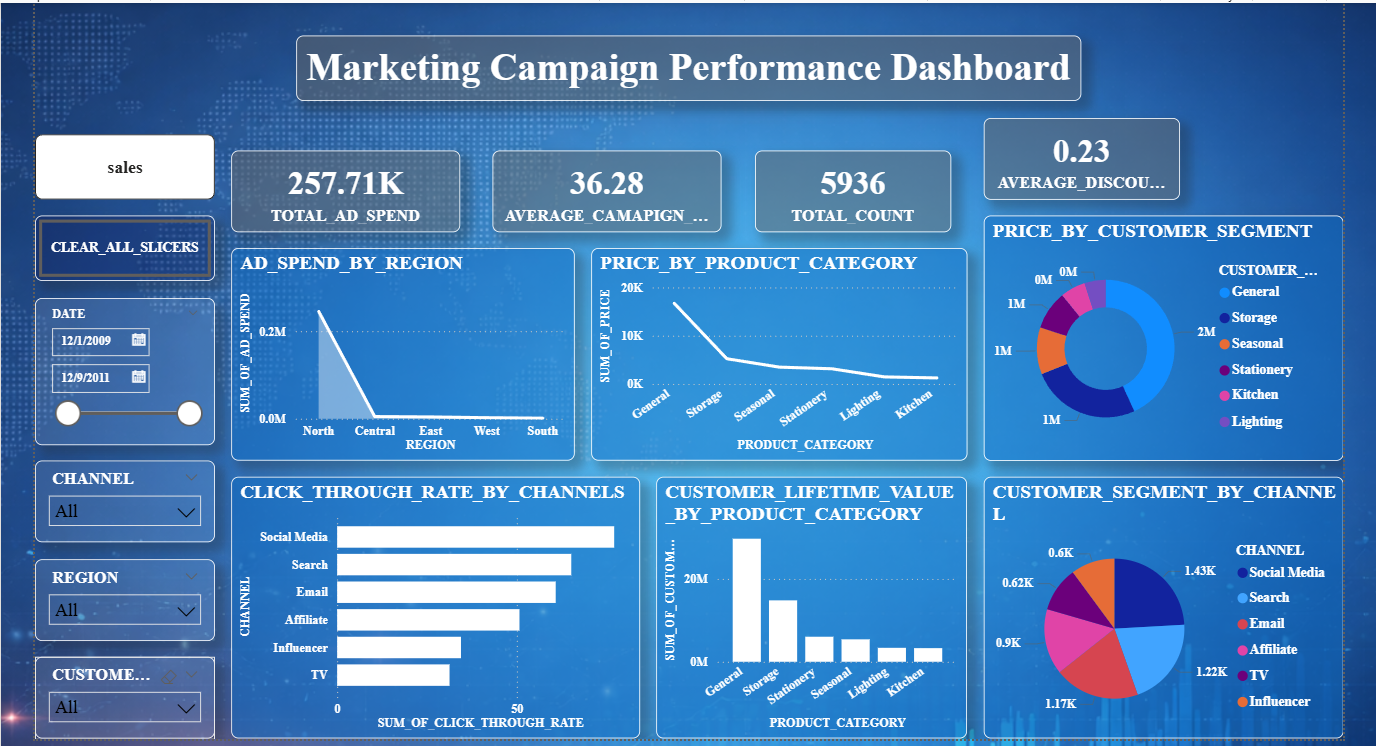

The page's visual inventory and layout, read from the dashboard file:
{"tool":"powerbi","page":{"name":"marketing","canvas":[1280,720],"ordinal":0},"visuals":[{"type":"card","fields":{"Values":["test.average discount rate"]},"box":[928,112,192,80],"z":0},{"type":"card","fields":{"Values":["test.total count"]},"box":[704,144,192,80],"z":1000},{"type":"card","fields":{"Values":["test.total ad_spend"]},"box":[192,144,224,80],"z":2000},{"type":"card","fields":{"Values":["test.average campaign duration"]},"box":[448,144,224,80],"z":3000},{"type":"barChart","title":"CLICK_THROUGH_RATE_BY_CHANNELS","fields":{"Category":["test.channel"],"Y":["Sum(test.click_through_rate)"]},"box":[192,464,400,256],"z":4000},{"type":"areaChart","title":"AD_SPEND_BY_REGION","fields":{"Category":["test.region"],"Y":["Sum(test.ad_spend)"]},"box":[192,240,336,208],"z":5000},{"type":"pieChart","title":"CUSTOMER_SEGMENT_BY_CHANNEL","fields":{"Category":["test.channel"],"Y":["CountNonNull(test.customer_segment)"]},"box":[928,464,352,256],"z":6000},{"type":"columnChart","title":"CUSTOMER_LIFETIME_VALUE_BY_PRODUCT_CATEGORY","fields":{"Category":["test.product_category"],"Y":["Sum(test.customer_lifetime_value)"]},"box":[608,464,304,256],"z":7000},{"type":"lineChart","title":"PRICE_BY_PRODUCT_CATEGORY","fields":{"Category":["test.product_category"],"Y":["Sum(test.price)"]},"box":[544,240,368,208],"z":8000},{"type":"textbox","box":[256,32,768,64],"z":9000},{"type":"slicer","fields":{"Values":["test.region"]},"box":[0,544,176,80],"z":10000},{"type":"slicer","fields":{"Values":["test.channel"]},"box":[0,448,176,80],"z":11000},{"type":"donutChart","title":"PRICE_BY_CUSTOMER_SEGMENT","fields":{"Category":["train.product_category"],"Y":["Sum(train.impressions)"]},"box":[928,208,352,240],"z":12000},{"type":"slicer","fields":{"Values":["test.customer_segment"]},"box":[0,640,176,80],"z":13000},{"type":"actionButton","box":[0,208,176,64],"z":14000},{"type":"pageNavigator","box":[0,128,176,64],"z":15000},{"type":"slicer","fields":{"Values":["train.date"]},"box":[0,288,176,144],"z":16000}]}

Visuals, with their boxes on the page's 1280x720 design canvas (x1, y1, x2, y2). These are canvas units, not pixel positions in the 1376x746 screenshot, which may show the page scaled, cropped or inside an application window:
card - test.average discount rate: bbox=(928, 112, 1120, 192)
card - test.total count: bbox=(704, 144, 896, 224)
card - test.total ad_spend: bbox=(192, 144, 416, 224)
card - test.average campaign duration: bbox=(448, 144, 672, 224)
"CLICK_THROUGH_RATE_BY_CHANNELS" barChart: bbox=(192, 464, 592, 720)
"AD_SPEND_BY_REGION" areaChart: bbox=(192, 240, 528, 448)
"CUSTOMER_SEGMENT_BY_CHANNEL" pieChart: bbox=(928, 464, 1280, 720)
"CUSTOMER_LIFETIME_VALUE_BY_PRODUCT_CATEGORY" columnChart: bbox=(608, 464, 912, 720)
"PRICE_BY_PRODUCT_CATEGORY" lineChart: bbox=(544, 240, 912, 448)
textbox: bbox=(256, 32, 1024, 96)
slicer - test.region: bbox=(0, 544, 176, 624)
slicer - test.channel: bbox=(0, 448, 176, 528)
"PRICE_BY_CUSTOMER_SEGMENT" donutChart: bbox=(928, 208, 1280, 448)
slicer - test.customer_segment: bbox=(0, 640, 176, 720)
actionButton: bbox=(0, 208, 176, 272)
pageNavigator: bbox=(0, 128, 176, 192)
slicer - train.date: bbox=(0, 288, 176, 432)
